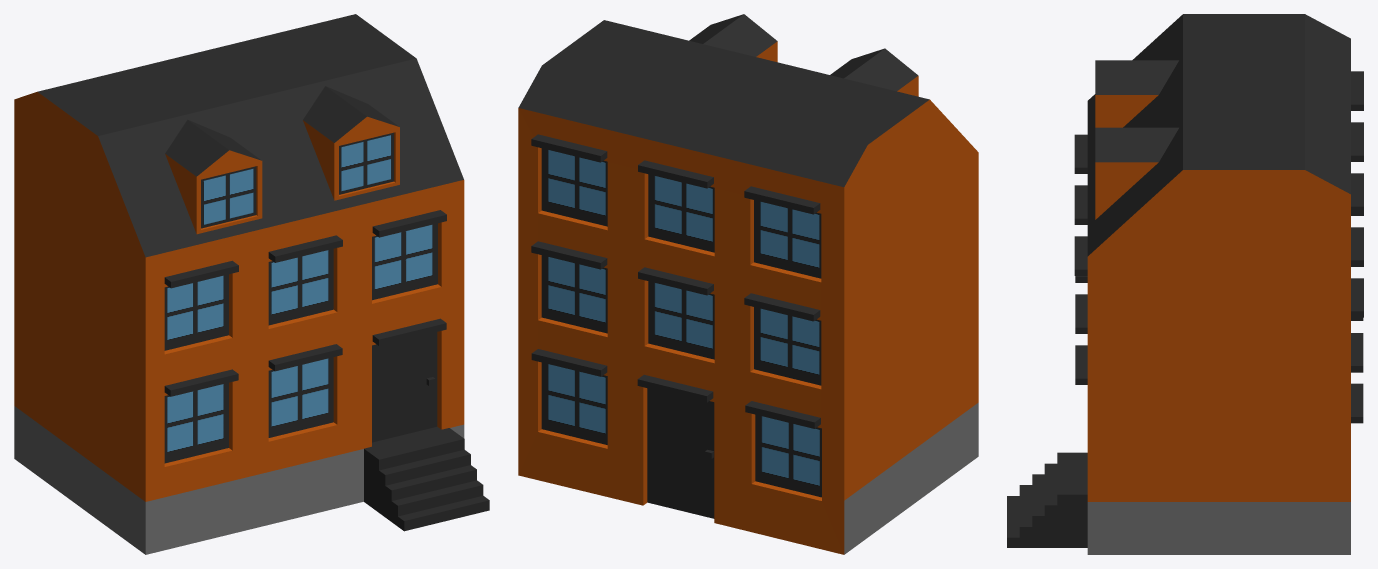
Rendered from NormalSquereOrange.obj.
The picture shows the model from 3 angles, left to right: view 1: azimuth 30°, elevation 25°; view 2: azimuth 150°, elevation 25°; view 3: azimuth 270°, elevation 25°; orthographic projection. The views are drawn at different scales.
Parts seen in each view (by area): view 1: ZwyklayKwadratowyPomaranczowy.001; view 2: ZwyklayKwadratowyPomaranczowy.001; view 3: ZwyklayKwadratowyPomaranczowy.001.
Part boxes in pixels (bbox=[...]): ZwyklayKwadratowyPomaranczowy.001: bbox=[14, 14, 489, 554]; ZwyklayKwadratowyPomaranczowy.001: bbox=[518, 14, 978, 554]; ZwyklayKwadratowyPomaranczowy.001: bbox=[1007, 14, 1363, 554].
Size of the model in its own units: 7 by 8.07 by 6.78.
